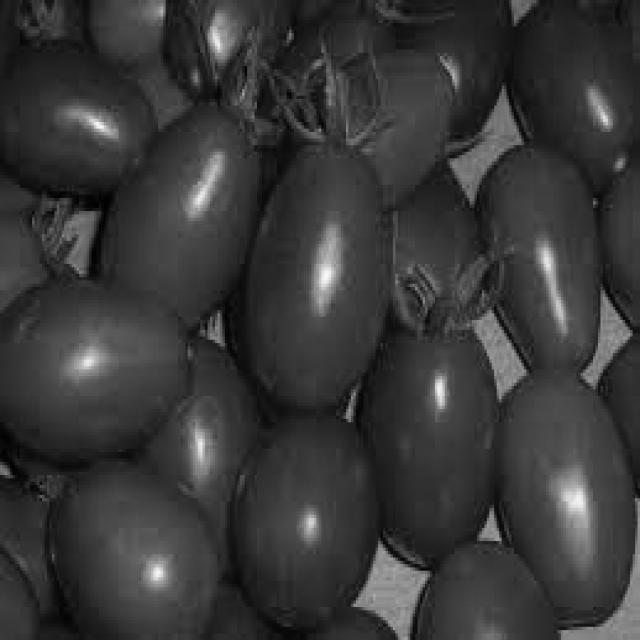Fresh_tomato: (508, 372, 630, 624), (273, 138, 379, 409), (488, 142, 604, 384), (389, 311, 494, 560), (248, 414, 373, 612), (66, 462, 204, 640), (162, 109, 260, 308), (142, 266, 162, 268)
